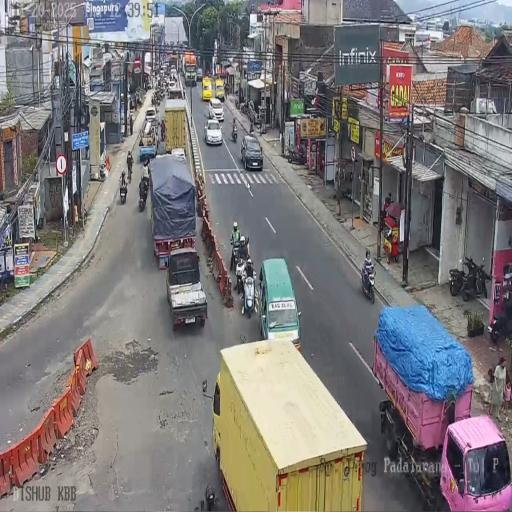car: (259, 257, 300, 346), (166, 249, 208, 330), (240, 132, 263, 170), (204, 118, 223, 147), (208, 97, 224, 121), (144, 106, 158, 130), (202, 76, 212, 102), (215, 78, 225, 102), (170, 67, 177, 82), (196, 67, 203, 80)
motorcycle: (448, 253, 490, 302), (491, 304, 512, 342), (361, 263, 376, 304), (286, 144, 306, 165), (240, 99, 251, 116), (138, 190, 145, 212), (255, 116, 262, 132), (232, 125, 238, 143), (160, 119, 165, 140), (249, 120, 254, 134), (155, 94, 160, 107)
truck: (210, 336, 359, 512), (148, 155, 197, 269), (164, 98, 187, 160), (184, 52, 198, 87), (168, 78, 182, 98)
